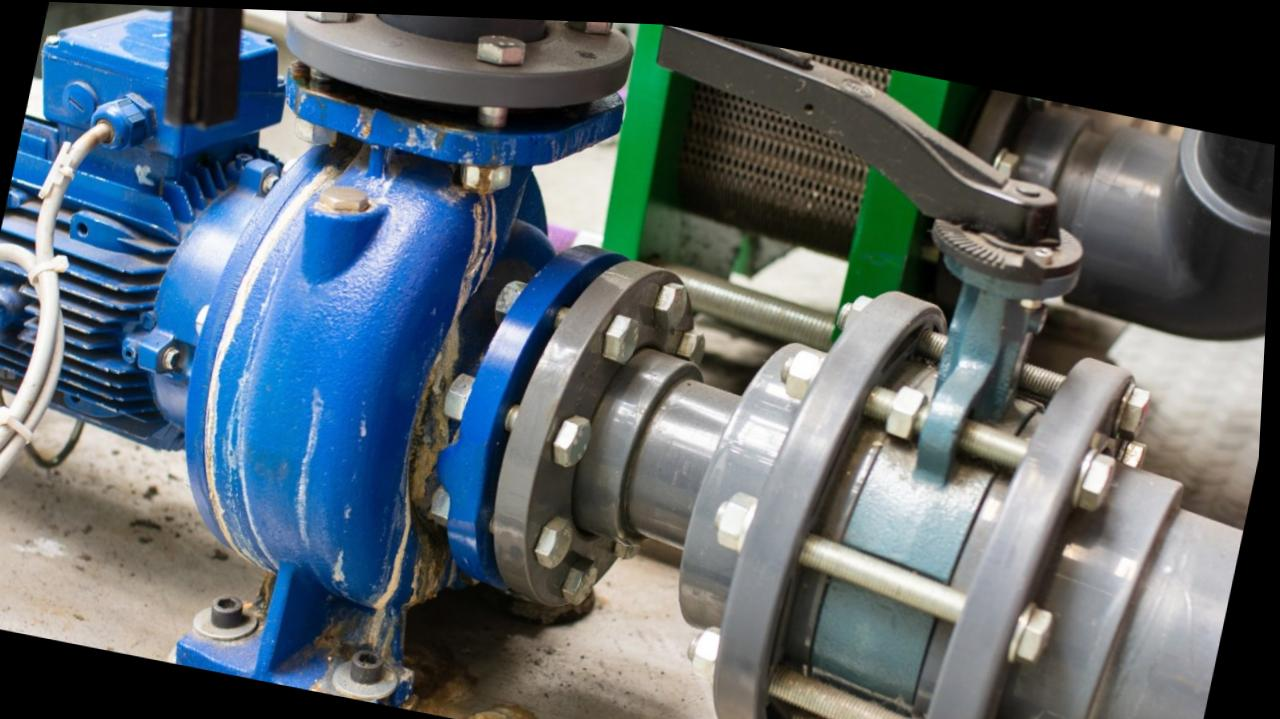leak: (356, 114, 500, 684)
